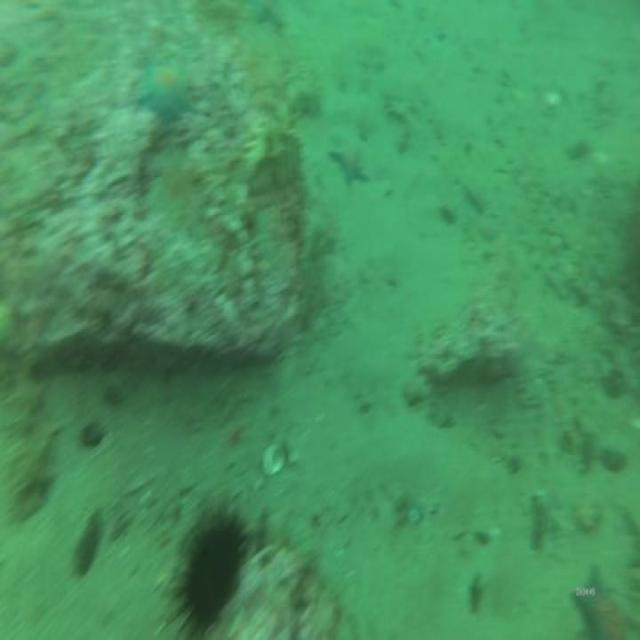echinus: (182, 524, 240, 626)
holothurian: (4, 365, 54, 512)
starfish: (570, 564, 640, 640), (135, 57, 191, 122), (327, 136, 369, 186)
